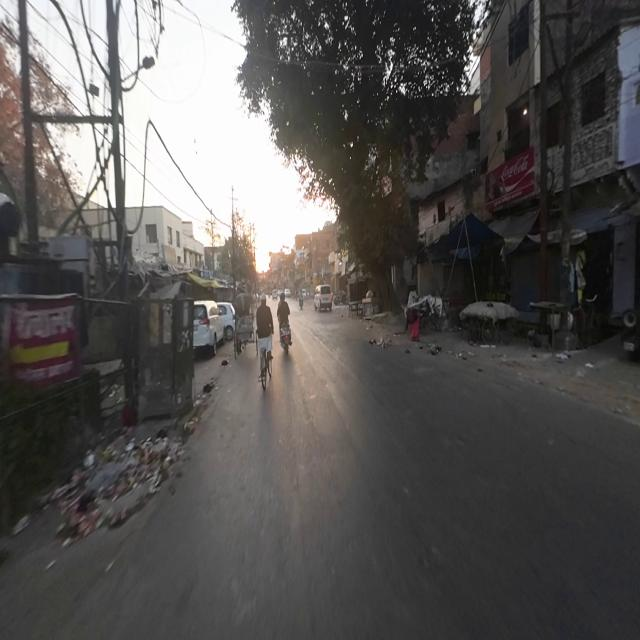Garbage: (52, 420, 170, 530)
